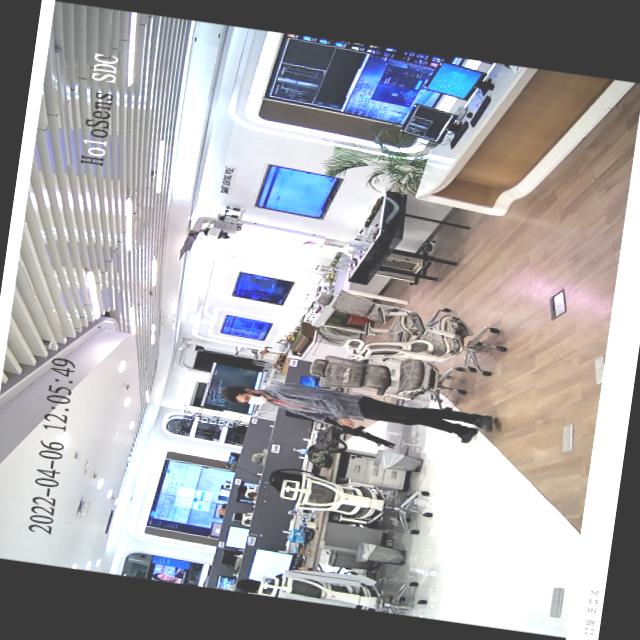long weapon: (309, 405, 402, 453)
